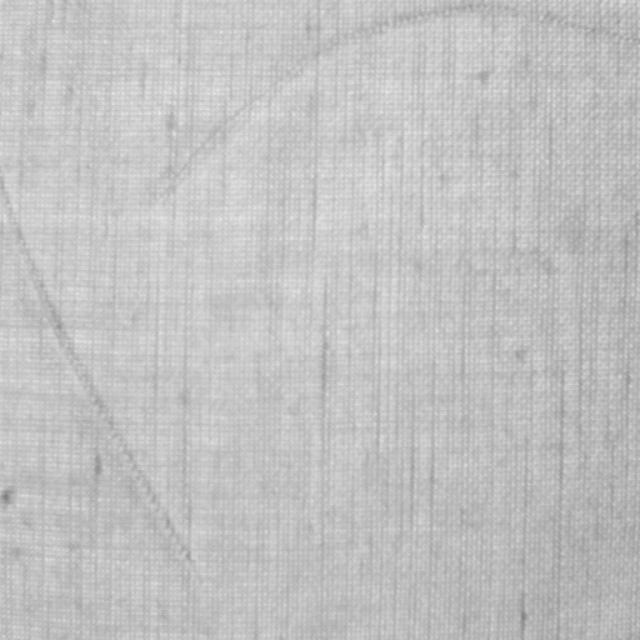objects: (152, 0, 639, 201), (0, 153, 206, 586)
